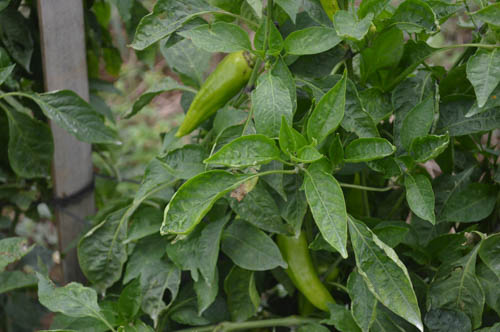ChiliPepper: (176, 51, 259, 135), (279, 226, 338, 322)
